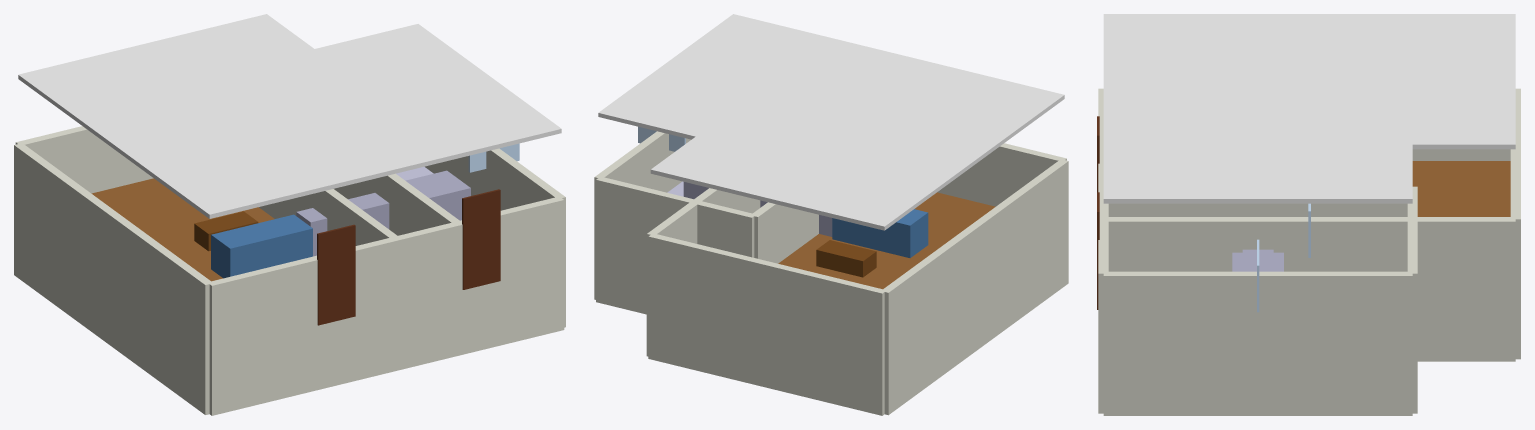
File: realistic_house_1751799230.obj
3 views of the same model, side by side, from view 1: azimuth 30°, elevation 25°; view 2: azimuth 150°, elevation 25°; view 3: azimuth 270°, elevation 25° (orthographic). The views are drawn at different scales.
Parts seen in each view (by area): view 1: Living_Room_ceiling, Living_Room_wall_0, Living_Room_wall_3, Kitchen_ceiling, Kitchen_wall_0, Living_Room_floor, living_room_sofa, Living_Room_wall_2, Kitchen_wall_1, Living_Room_door, Kitchen_door, Living_Room_wall_1 (+5 smaller); view 2: Living_Room_ceiling, Living_Room_wall_2, Living_Room_wall_3, Kitchen_ceiling, Kitchen_wall_2, Living_Room_floor, Living_Room_wall_0, Kitchen_wall_3, living_room_sofa, Kitchen_wall_1, Living_Room_wall_1, living_room_table; view 3: Kitchen_wall_1, Living_Room_ceiling, Living_Room_wall_1, Kitchen_ceiling, Living_Room_floor, Kitchen_wall_3, Living_Room_wall_2, Kitchen_wall_2, Kitchen_wall_0, Living_Room_wall_3, kitchen_counter, Living_Room_wall_0 (+1 smaller).
Part boxes in pixels (box(x1,y1,x2,y2)): Living_Room_ceiling: box(18, 14, 458, 218); Living_Room_wall_0: box(207, 221, 460, 415); Living_Room_wall_3: box(14, 144, 212, 414); Kitchen_ceiling: box(253, 24, 561, 173); Kitchen_wall_0: box(398, 196, 564, 354); Living_Room_floor: box(91, 178, 274, 281); living_room_sofa: box(211, 214, 312, 278); Living_Room_wall_2: box(15, 126, 153, 193); Kitchen_wall_1: box(425, 148, 565, 327); Living_Room_door: box(317, 224, 355, 325); Kitchen_door: box(462, 189, 500, 289); Living_Room_wall_1: box(334, 173, 460, 235); Living_Room_ceiling: box(650, 38, 1064, 230); Living_Room_wall_2: box(648, 234, 886, 415); Living_Room_wall_3: box(882, 159, 1068, 415); Kitchen_ceiling: box(598, 14, 888, 150); Kitchen_wall_2: box(596, 176, 755, 314); Living_Room_floor: box(778, 192, 995, 289); Living_Room_wall_0: box(937, 143, 1066, 206); Kitchen_wall_3: box(751, 202, 818, 263); living_room_sofa: box(832, 209, 928, 257); Kitchen_wall_1: box(594, 131, 690, 299); Living_Room_wall_1: box(646, 188, 760, 356); living_room_table: box(816, 240, 876, 277); Kitchen_wall_1: box(1103, 271, 1412, 415); Living_Room_ceiling: box(1103, 14, 1515, 149); Living_Room_wall_1: box(1108, 217, 1515, 361); Kitchen_ceiling: box(1103, 112, 1412, 203); Living_Room_floor: box(1412, 161, 1510, 216); Kitchen_wall_3: box(1108, 203, 1407, 216); Living_Room_wall_2: box(1510, 88, 1520, 359); Kitchen_wall_2: box(1407, 186, 1417, 413); Kitchen_wall_0: box(1098, 186, 1108, 413); Living_Room_wall_3: box(1412, 149, 1510, 160); kitchen_counter: box(1242, 249, 1273, 268); Living_Room_wall_0: box(1098, 88, 1103, 186).
Size of the model in its own units: 9.3 by 4.6 by 8.23.
